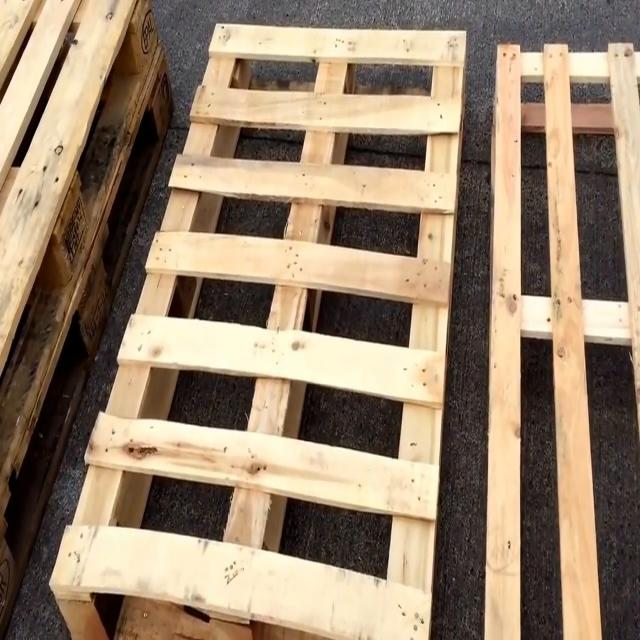Palette: (45, 23, 471, 640), (0, 0, 184, 640), (482, 31, 640, 640)
